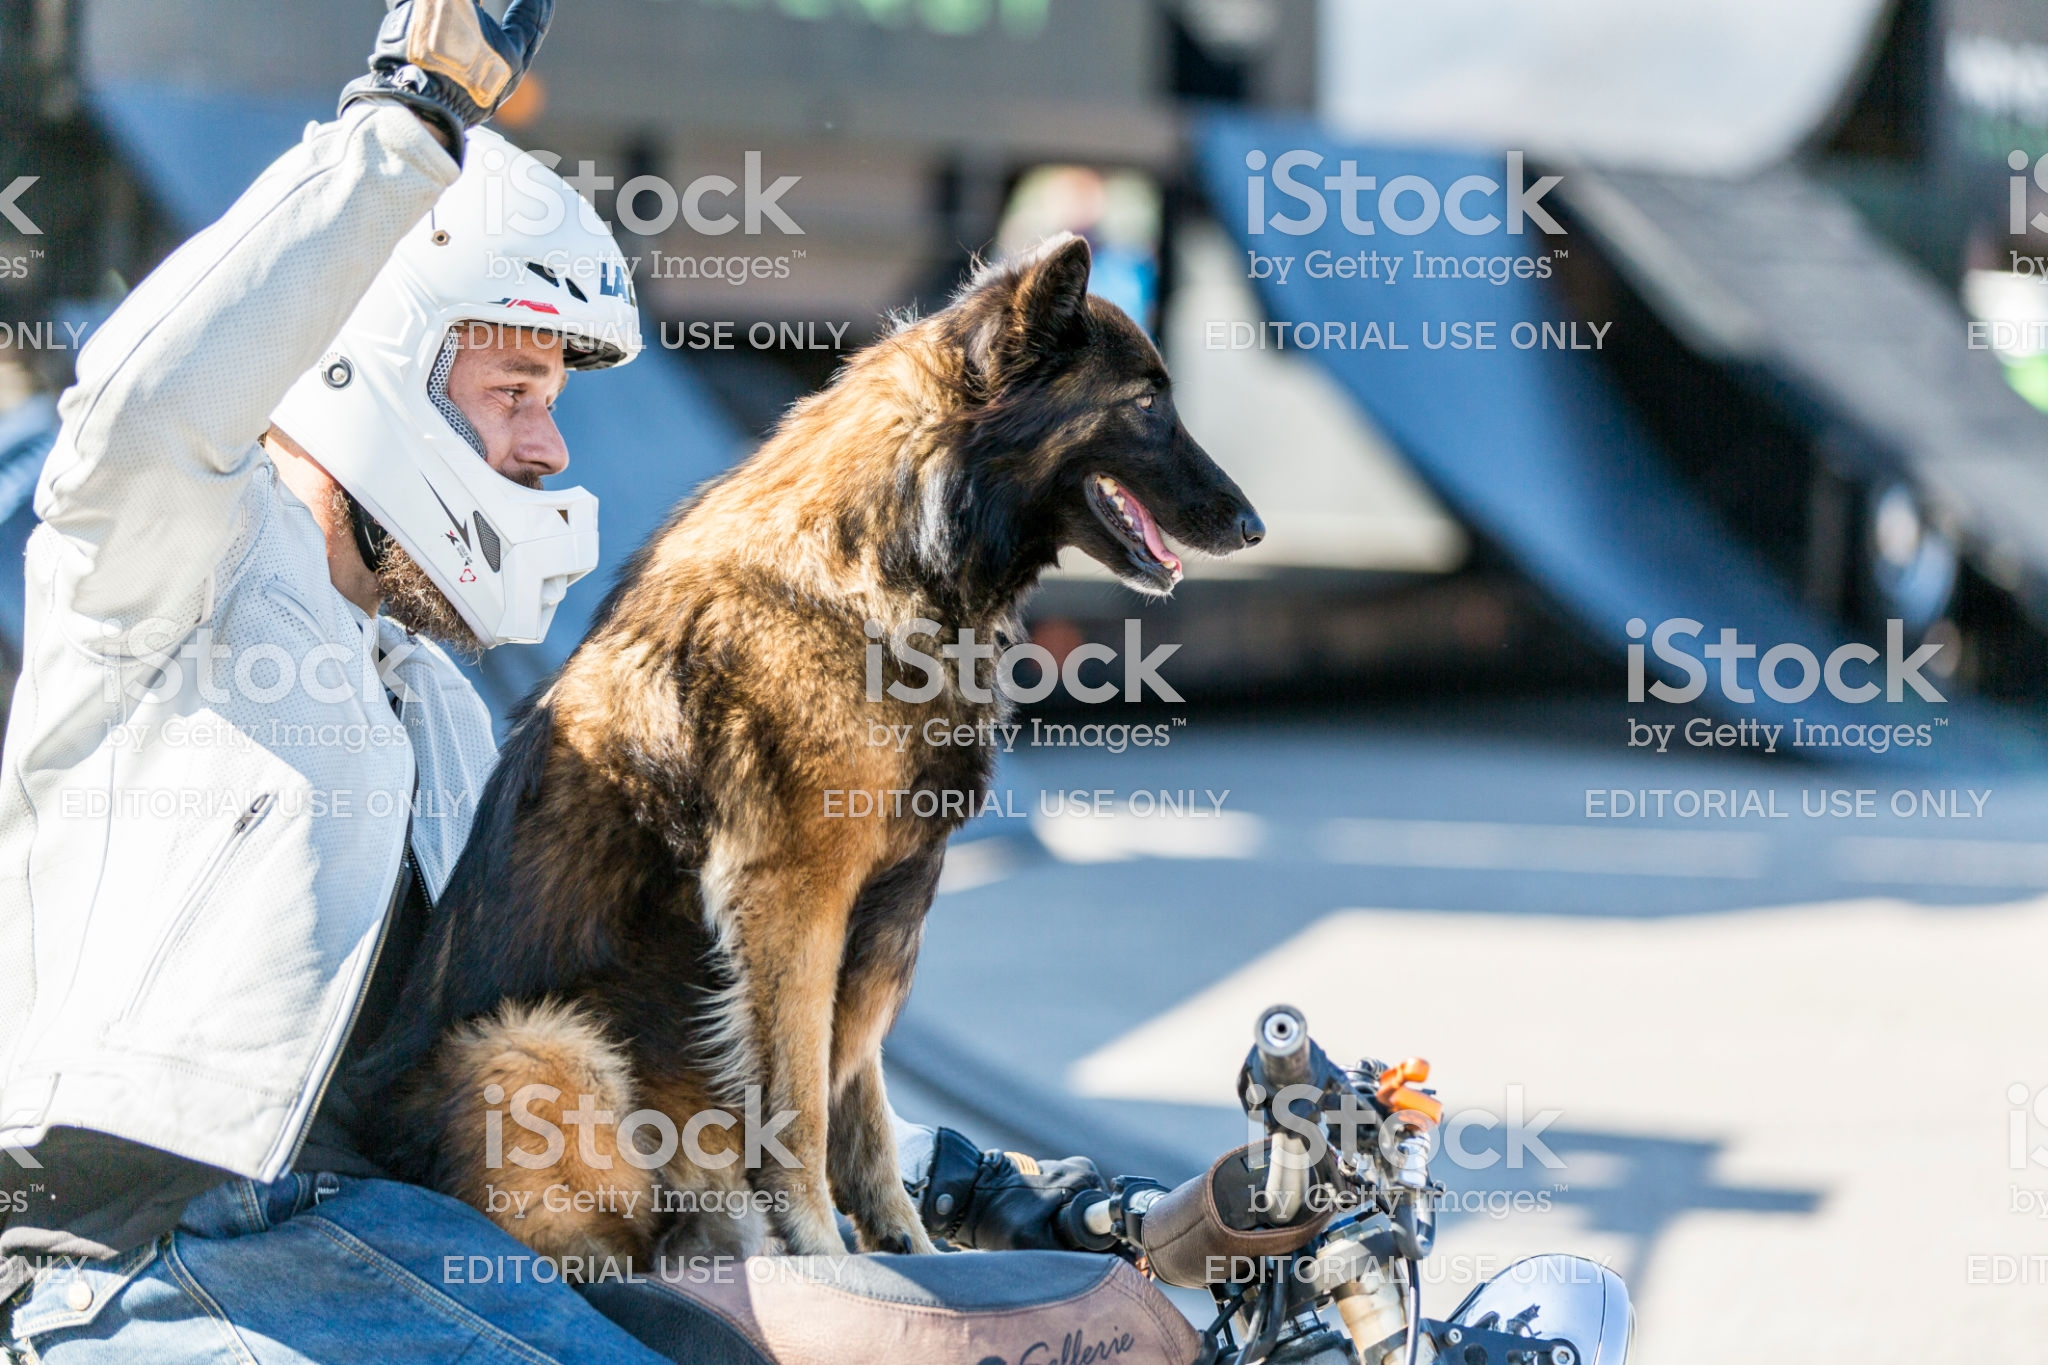helmet: (317, 129, 649, 611)
